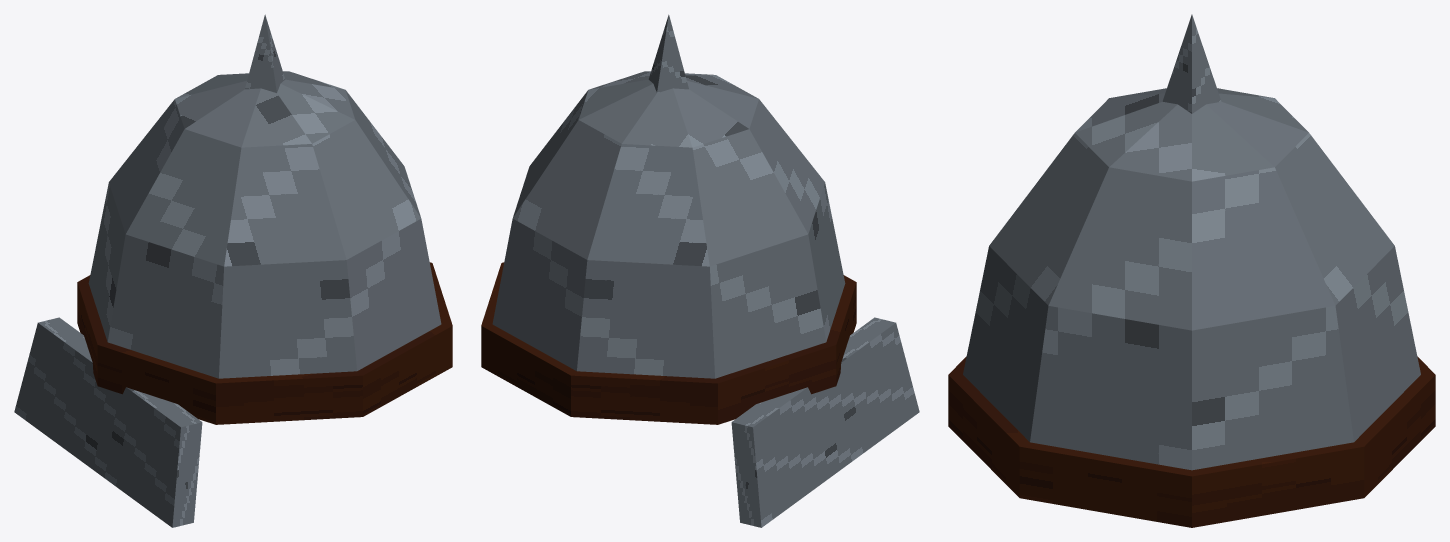
Rendered from malla.glb.
The picture shows the model from 3 angles, left to right: view 1: azimuth 30°, elevation 25°; view 2: azimuth 150°, elevation 25°; view 3: azimuth 270°, elevation 25°; orthographic projection. The views are drawn at different scales.
Parts seen in each view (by area): view 1: cupula, cogotera, aro, cimera; view 2: cupula, cogotera, aro, cimera; view 3: cupula, aro, cimera.
Part boxes in pixels (x1,y1,x2,y2): cupula: [88, 71, 441, 378]; cogotera: [14, 317, 202, 527]; aro: [77, 262, 452, 424]; cimera: [245, 14, 285, 92]; cupula: [492, 71, 845, 378]; cogotera: [731, 317, 919, 527]; aro: [481, 262, 856, 424]; cimera: [648, 14, 688, 92]; cupula: [963, 88, 1420, 470]; aro: [948, 356, 1435, 527]; cimera: [1162, 14, 1221, 113].
Size of the model in its own units: 0.3 by 0.35 by 0.3.
1 material, 1 textured.
